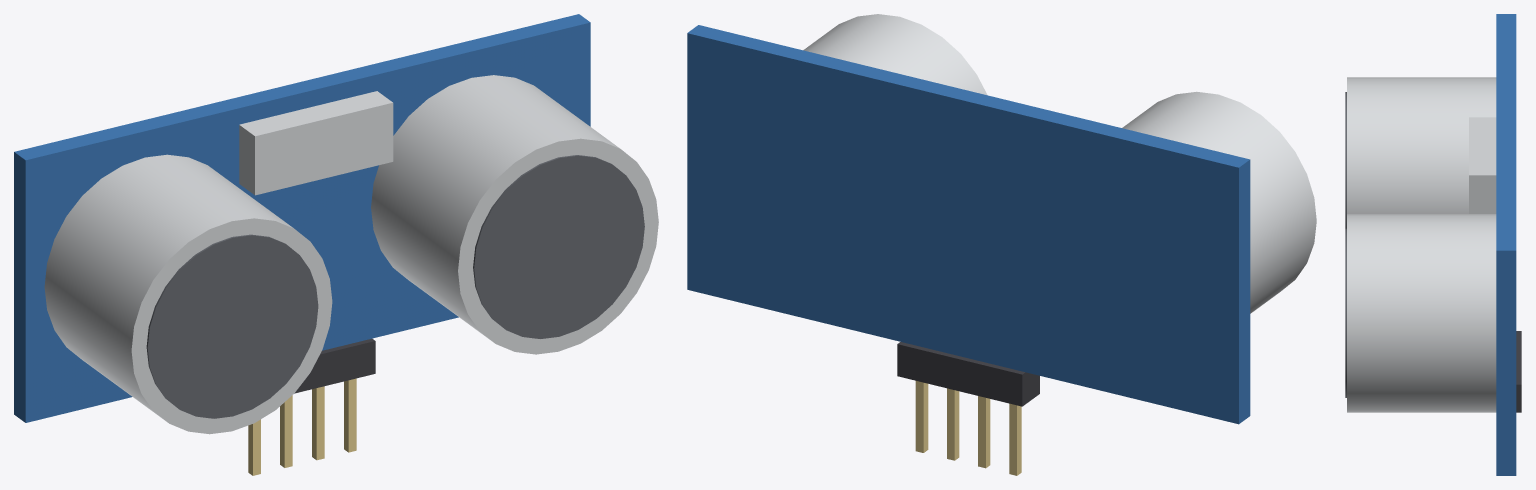
The model's file is ultrasonic.glb.
3 views of the same model, side by side, from view 1: azimuth 30°, elevation 25°; view 2: azimuth 150°, elevation 25°; view 3: azimuth 270°, elevation 25° (orthographic). The views are drawn at different scales.
Visible parts, largest first — view 1: transducers, pcb, crystal, pins; view 2: pcb, transducers, pins; view 3: transducers, pcb, crystal, pins.
Boxes of the visible parts, x1,y1,x2,y2 form: transducers: [44, 75, 658, 434]; pcb: [14, 14, 590, 422]; crystal: [239, 91, 393, 195]; pins: [248, 338, 375, 475]; pcb: [687, 25, 1250, 424]; transducers: [803, 14, 1316, 313]; pins: [897, 342, 1039, 475]; transducers: [1345, 77, 1496, 412]; pcb: [1496, 14, 1516, 475]; crystal: [1469, 117, 1496, 213]; pins: [1516, 331, 1521, 412].
Size of the model in its own units: 0.045 by 0.0285 by 0.0142.
